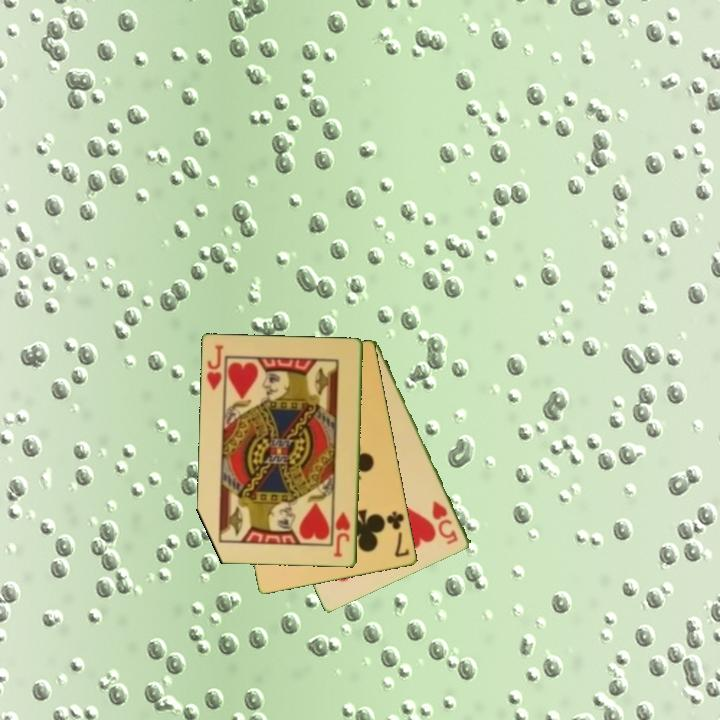5h: (429, 498, 461, 548)
7c: (383, 508, 412, 560)
Jh: (203, 342, 227, 394), (331, 509, 353, 560)
